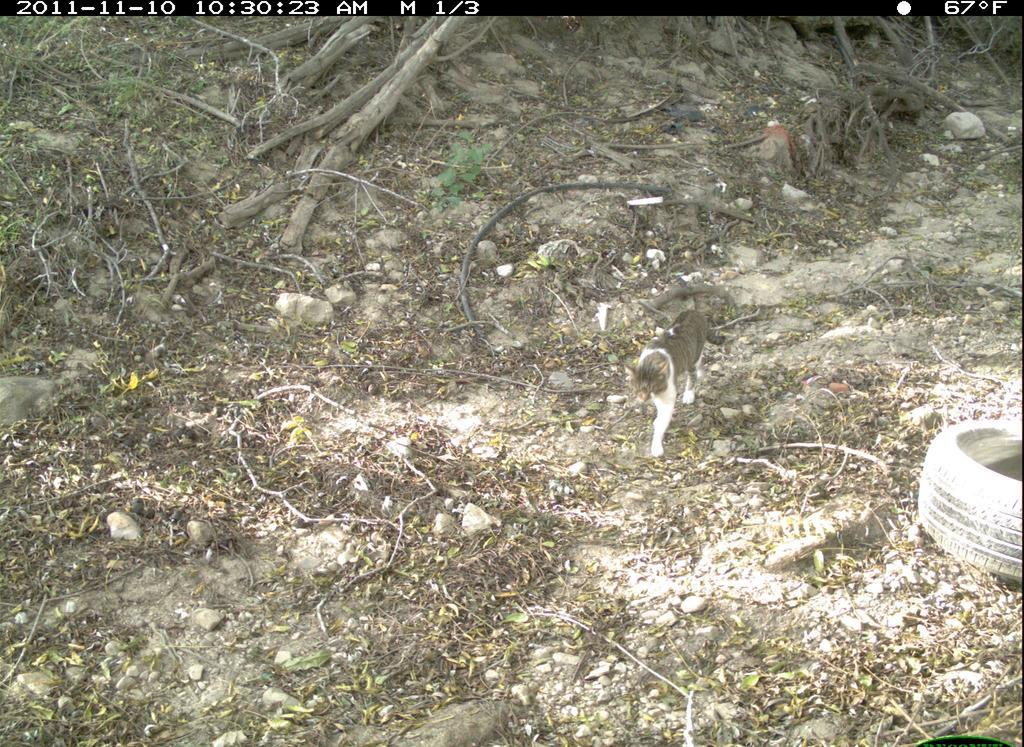cat: (610, 294, 758, 463)
